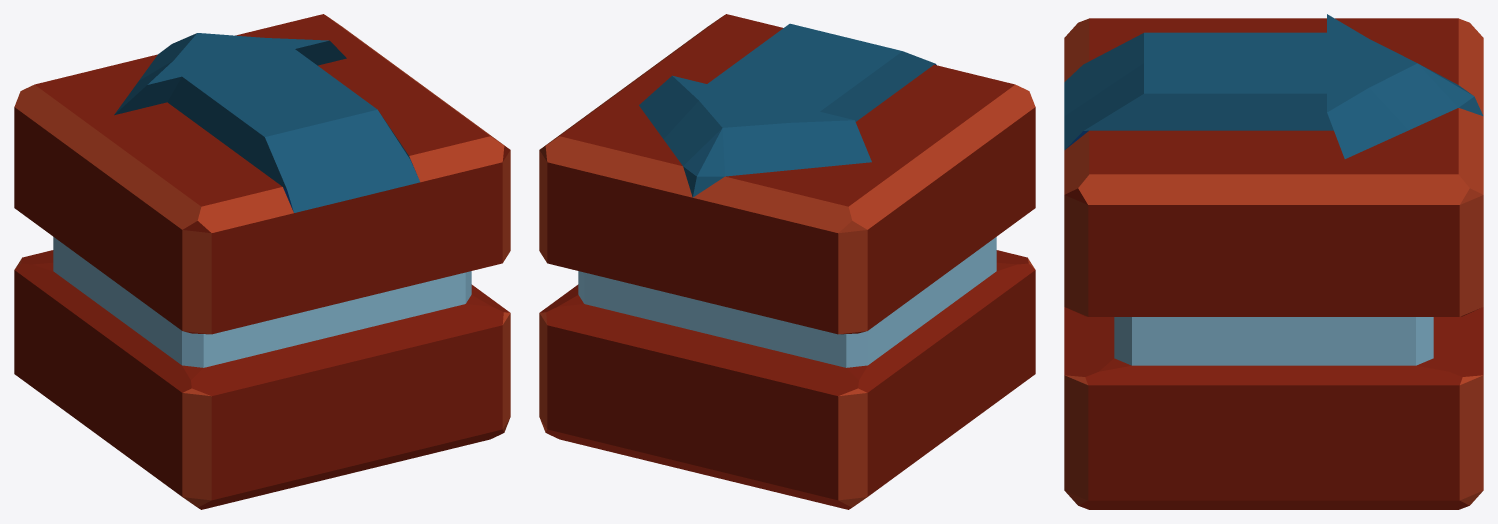
The model's file is test_entity.fbx.
3 views of the same model, side by side, from view 1: azimuth 30°, elevation 25°; view 2: azimuth 150°, elevation 25°; view 3: azimuth 270°, elevation 25° (orthographic). The views are drawn at different scales.
Visible parts, largest first — view 1: Cube; view 2: Cube; view 3: Cube.
Part boxes in pixels (x1,y1,x2,y2): Cube: (14, 14, 510, 509); Cube: (539, 14, 1035, 509); Cube: (1064, 14, 1483, 509).
Bounding box in the file's own units: 200 × 194 × 200.
